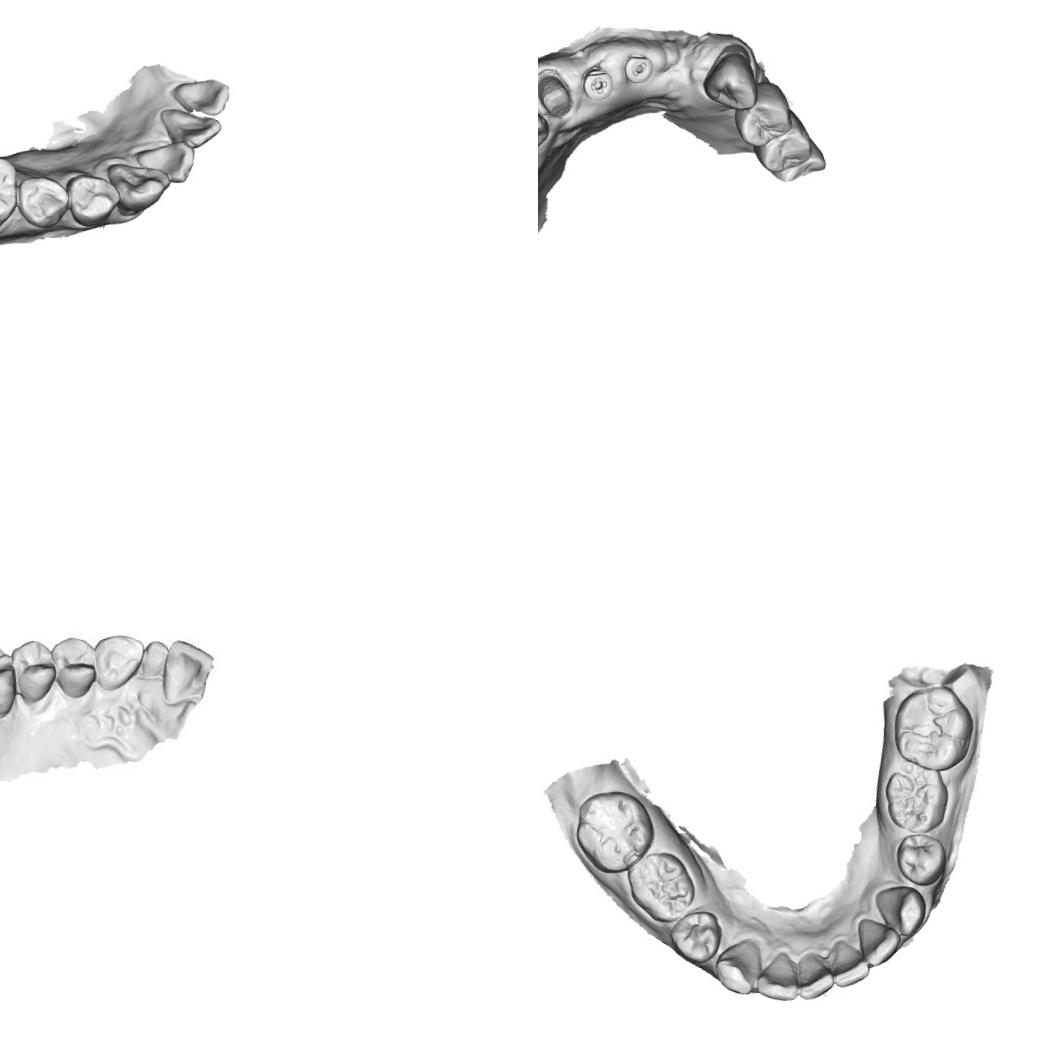canine: (698, 49, 760, 115), (104, 156, 172, 216), (90, 628, 148, 691), (711, 936, 765, 997), (872, 882, 928, 938), (538, 95, 552, 163)
crown: (538, 66, 578, 125)
implant_minus: (620, 50, 656, 85)
implant_plus: (578, 62, 616, 102)
incisor: (157, 637, 216, 704), (132, 138, 198, 186), (158, 103, 222, 151), (750, 948, 800, 1007), (168, 76, 232, 120), (855, 913, 903, 967), (789, 953, 838, 1001), (828, 944, 872, 988), (137, 635, 172, 679)
molar: (888, 682, 979, 775), (569, 786, 657, 878), (624, 847, 698, 926), (880, 760, 952, 837), (0, 144, 23, 237), (0, 641, 21, 727)
premolar: (750, 112, 814, 176), (733, 86, 793, 150), (666, 906, 724, 969), (8, 636, 60, 704), (50, 630, 100, 700), (14, 172, 72, 232), (66, 168, 124, 228), (892, 829, 950, 888)
